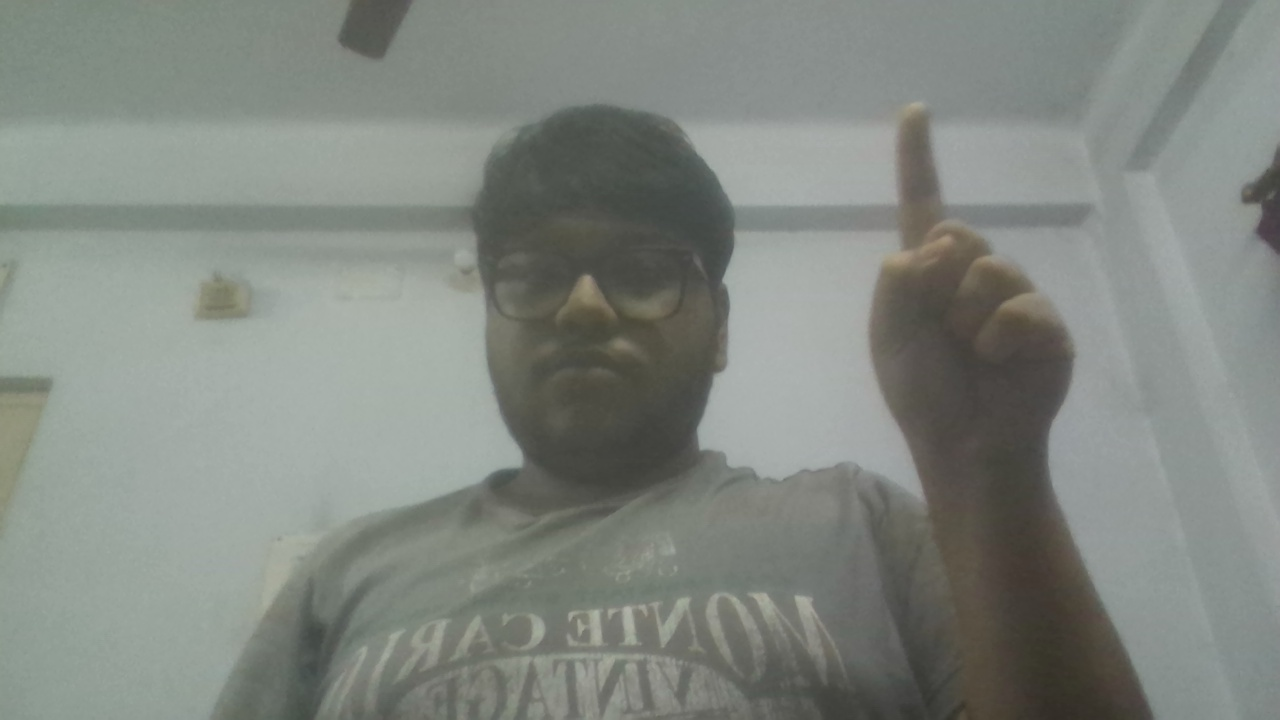Gesture1: (857, 94, 1088, 473)
